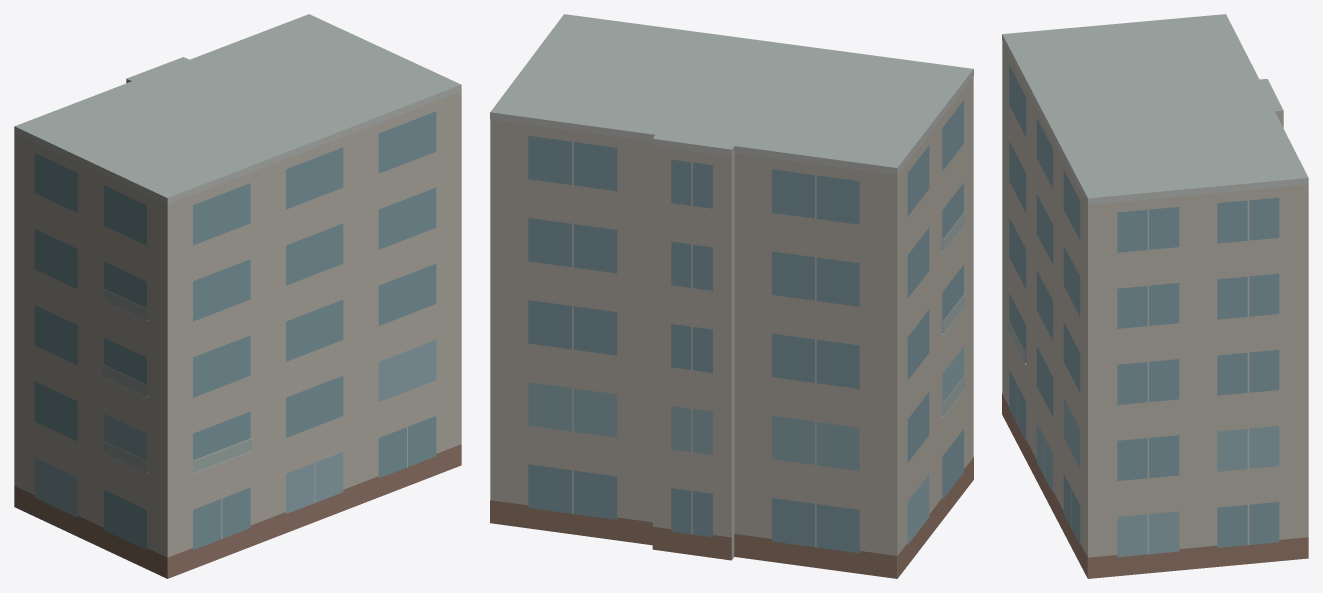
File: survey-upis-32903942.glb
The picture shows the model from 3 angles, left to right: view 1: azimuth 30°, elevation 25°; view 2: azimuth 150°, elevation 25°; view 3: azimuth 270°, elevation 25°; orthographic projection. The views are drawn at different scales.
Visible parts, largest first — view 1: survey-upis-32903942.tmp; view 2: survey-upis-32903942.tmp; view 3: survey-upis-32903942.tmp.
Part boxes in pixels (x1,y1,x2,y2): survey-upis-32903942.tmp: (14,14,461,578); survey-upis-32903942.tmp: (490,14,973,578); survey-upis-32903942.tmp: (1002,14,1308,578).
Size of the model in its own units: 14.5 by 13.95 by 10.19.
